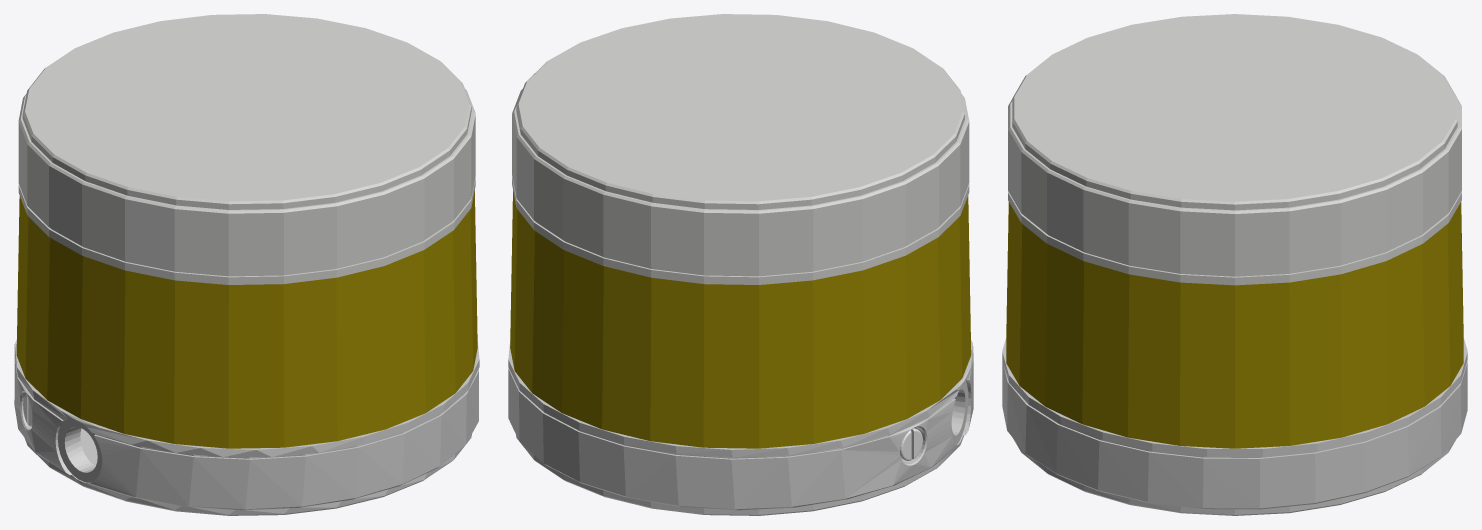
The model's file is lidar.dae.
The picture shows the model from 3 angles, left to right: view 1: azimuth 30°, elevation 25°; view 2: azimuth 150°, elevation 25°; view 3: azimuth 270°, elevation 25°; orthographic projection.
Parts seen in each view (by area): view 1: node0; view 2: node0; view 3: node0.
Boxes of the visible parts, <box> form: node0: <box>14,14,479,515</box>; node0: <box>508,14,973,515</box>; node0: <box>1002,14,1467,515</box>.
Size of the model in its own units: 0.1085 by 0.109 by 0.0807.
